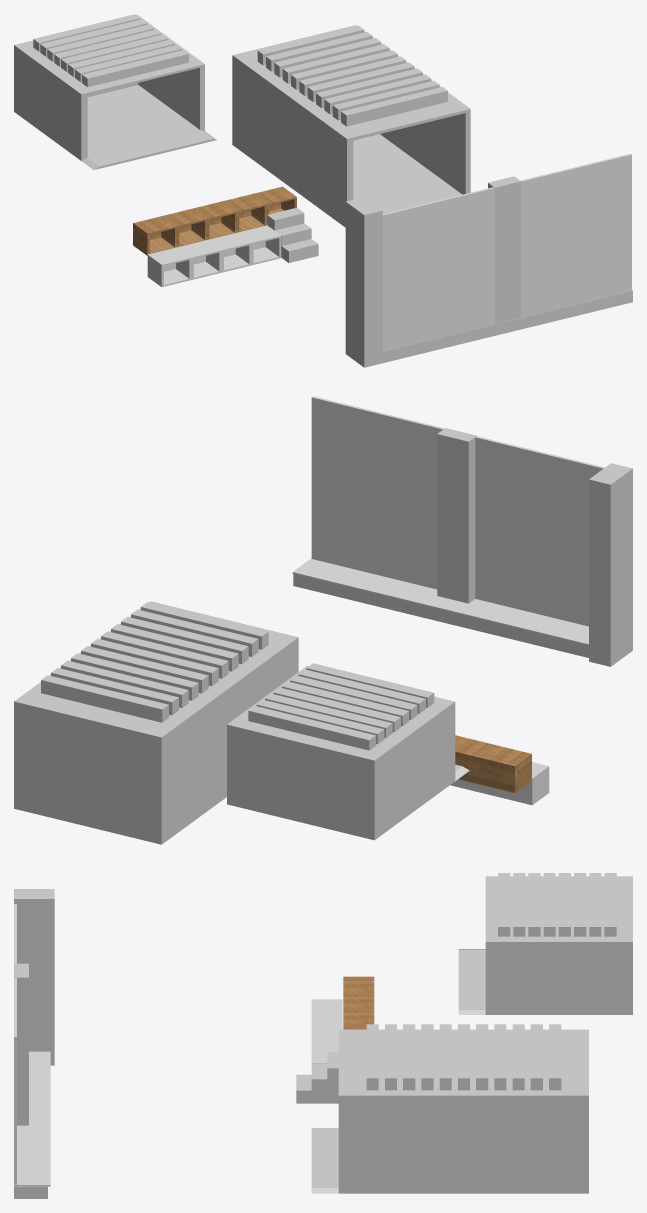
The model's file is Branch-Body-sample1.fbx.
3 views of the same model, one above another, from view 1: azimuth 30°, elevation 25°; view 2: azimuth 150°, elevation 25°; view 3: azimuth 270°, elevation 25° (orthographic). The views are drawn at different scales.
Parts seen in each view (by area): view 1: 立方体.010, 立方体.001, 立方体.006, 立方体.005, 立方体.003, 立方体.011, 立方体.002, Cube.001, Cube, 立方体, 立方体.004; view 2: 立方体.010, 立方体.001, 立方体.005, 立方体.003, 立方体.006, 立方体.011, 立方体.002, 立方体.004, Cube.001, Cube; view 3: 立方体.010, 立方体.001, 立方体.011, 立方体.003, 立方体.002, 立方体.004, Cube, 立方体, Cube.001, 立方体.005.
Part boxes in pixels (x1,y1,x2,y2): 立方体.010: [232, 25, 470, 227]; 立方体.001: [14, 15, 216, 169]; 立方体.006: [382, 187, 494, 350]; 立方体.005: [520, 153, 631, 316]; 立方体.003: [345, 176, 632, 367]; 立方体.011: [257, 25, 447, 126]; 立方体.002: [33, 14, 188, 87]; Cube.001: [133, 186, 296, 255]; Cube: [147, 225, 281, 287]; 立方体: [267, 208, 318, 262]; 立方体.004: [382, 289, 632, 351]; 立方体.010: [14, 601, 298, 844]; 立方体.001: [227, 665, 469, 840]; 立方体.005: [311, 396, 444, 589]; 立方体.003: [293, 428, 632, 666]; 立方体.006: [475, 436, 604, 626]; 立方体.011: [41, 602, 268, 722]; 立方体.002: [248, 663, 434, 750]; 立方体.004: [292, 558, 588, 645]; Cube.001: [455, 735, 531, 792]; Cube: [450, 762, 549, 805]; 立方体.010: [311, 1029, 588, 1193]; 立方体.001: [458, 876, 632, 1014]; 立方体.011: [366, 1024, 561, 1090]; 立方体.003: [14, 889, 54, 1198]; 立方体.002: [498, 873, 616, 936]; 立方体.004: [14, 1051, 50, 1186]; Cube: [311, 999, 342, 1063]; 立方体: [296, 1052, 338, 1103]; Cube.001: [343, 976, 374, 1029]; 立方体.005: [14, 978, 16, 1184].
Size of the model in its own units: 4515 by 2002 by 6602.
Materials: 5 (1 with a texture image).
